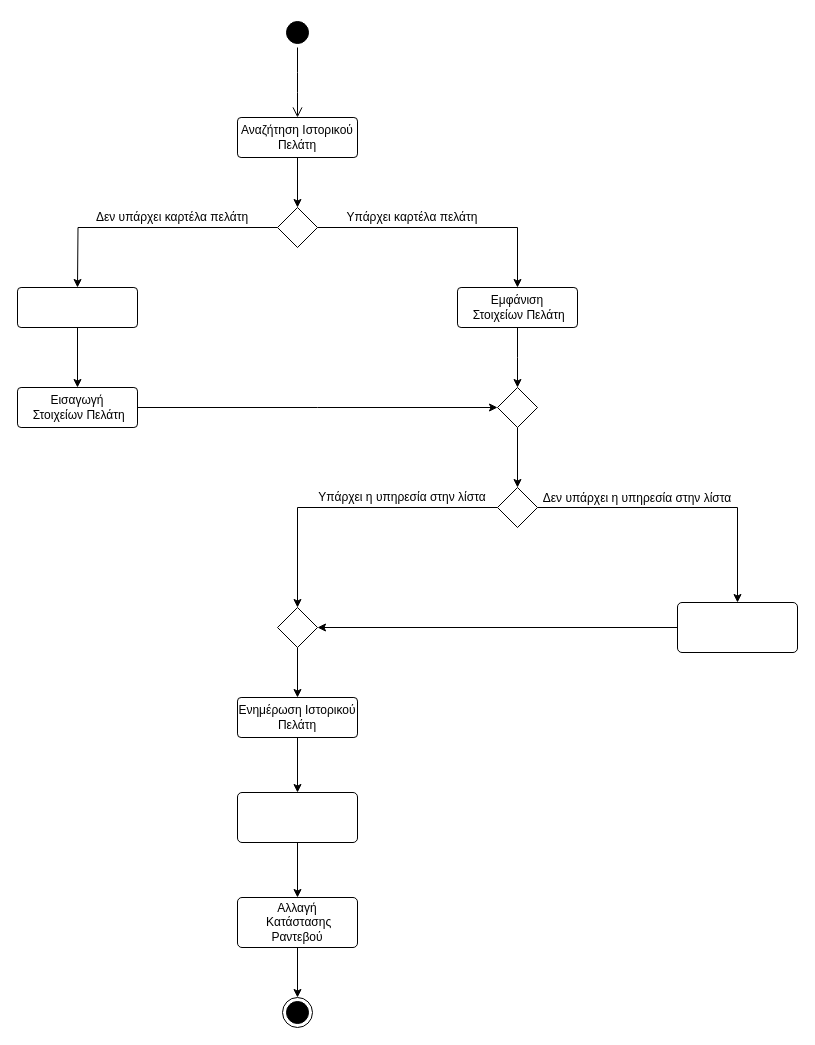
The diagram is 815 pixels wide and 1045 high, and some of its shapes have lost their labels. The centre of each missing label's shape, as x and y in pixels:
Δημιουργία Προφίλ Πελάτη: point 77,307
Ενημέρωση Στατιστικών Οδοντιάτρου: point 297,817
Προσθήκη Ειδικής Περίπτωσης μέσω Σχολίων: point 737,627
